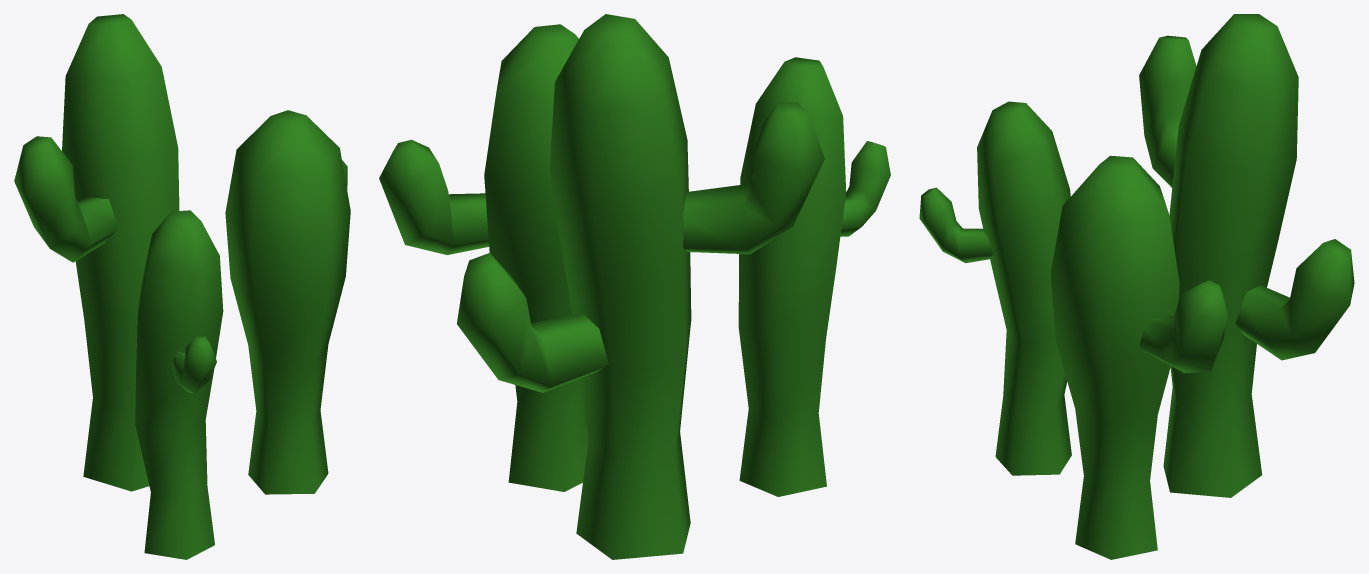
File: Cactus.fbx
3 renders of one model, left to right at view 1: azimuth 30°, elevation 25°; view 2: azimuth 150°, elevation 25°; view 3: azimuth 270°, elevation 25°, orthographic. The views are drawn at different scales.
Visible parts, largest first — view 1: Cactus; view 2: Cactus; view 3: Cactus.
Part boxes in pixels (box(x1,y1,x2,y2)): Cactus: box(14, 14, 350, 559); Cactus: box(379, 14, 890, 559); Cactus: box(919, 14, 1354, 559).
Bounding box in the file's own units: 2.62 × 3.27 × 2.78.
